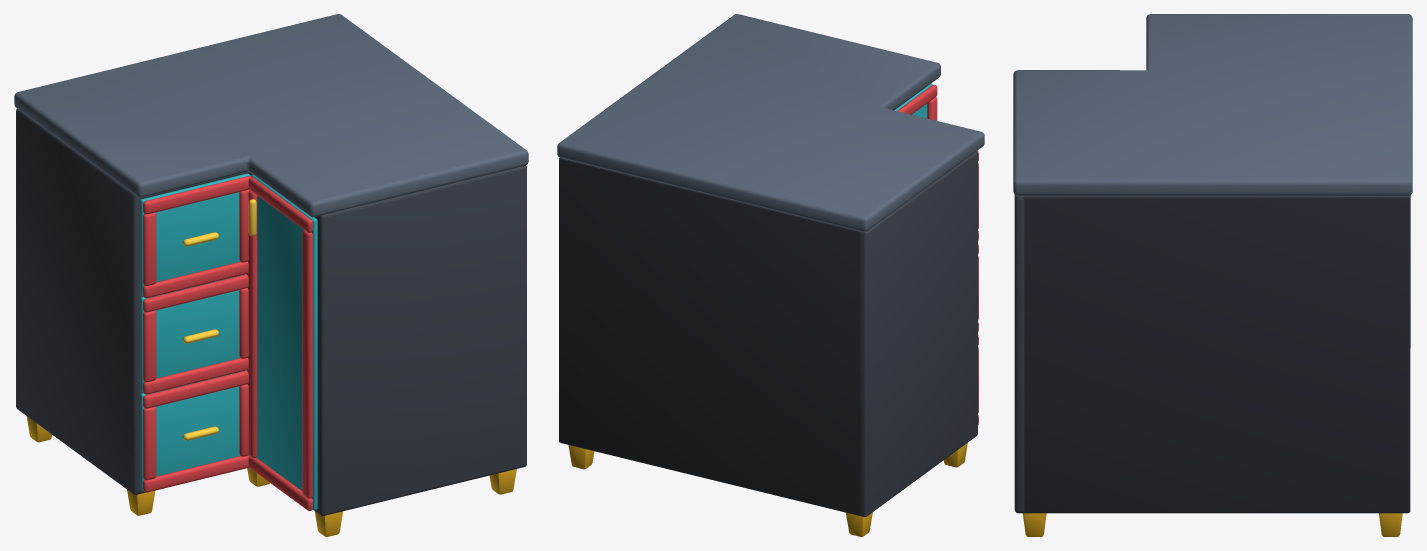
File: armario_cozinha_canto_grafite.glb
3 renders of one model, left to right at view 1: azimuth 30°, elevation 25°; view 2: azimuth 150°, elevation 25°; view 3: azimuth 270°, elevation 25°, orthographic. The views are drawn at different scales.
Parts seen in each view (by area): view 1: armario_cozinha_canto_grafite, porta_1, gaveta_1, gaveta_3, gaveta_2; view 2: armario_cozinha_canto_grafite, porta_1; view 3: armario_cozinha_canto_grafite.
Boxes of the visible parts, x1,y1,x2,y2 form: armario_cozinha_canto_grafite: [14, 14, 528, 536]; porta_1: [246, 174, 317, 510]; gaveta_1: [140, 173, 249, 298]; gaveta_3: [140, 370, 249, 492]; gaveta_2: [140, 274, 248, 394]; armario_cozinha_canto_grafite: [557, 14, 984, 536]; porta_1: [894, 83, 937, 120]; armario_cozinha_canto_grafite: [1013, 14, 1412, 536].
Size of the model in its own units: 0.898 by 0.9 by 0.899.
Materials: 1 (1 with a texture image).
